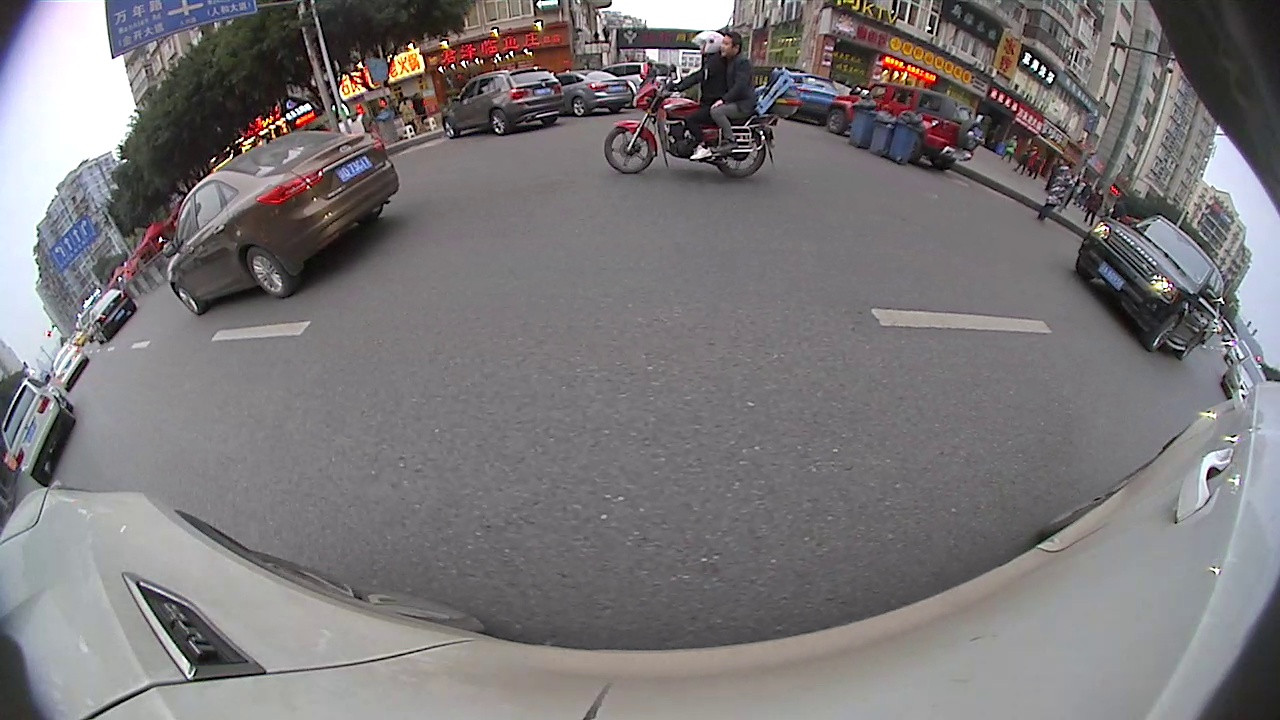car: (165, 127, 399, 322), (1072, 212, 1229, 363), (825, 81, 983, 169), (437, 67, 567, 141), (1, 373, 82, 489), (550, 67, 638, 110), (90, 285, 136, 338), (50, 340, 93, 393), (1219, 353, 1267, 394)
front: (600, 119, 659, 176), (1143, 310, 1183, 357), (170, 282, 206, 320)
rear: (241, 244, 297, 301), (713, 125, 770, 181), (487, 108, 512, 138), (826, 106, 848, 137), (571, 96, 591, 118)
rider: (601, 26, 802, 179)
